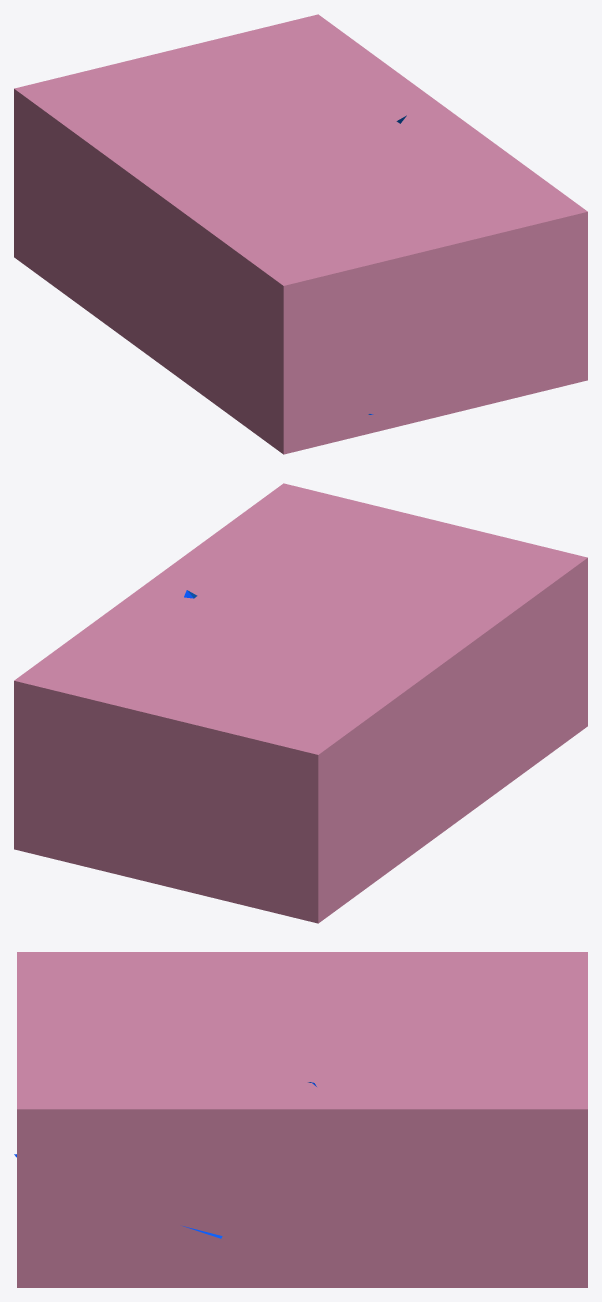
Rendered from tree_oak_dead_a.dae.
3 views of the same model, one above another, from view 1: azimuth 30°, elevation 25°; view 2: azimuth 150°, elevation 25°; view 3: azimuth 270°, elevation 25° (orthographic). The views are drawn at different scales.
Visible parts, largest first — view 1: Untitled; view 2: Untitled; view 3: Untitled.
Boxes of the visible parts, x1,y1,x2,y2 form: Untitled: (14, 14, 587, 454); Untitled: (14, 483, 587, 923); Untitled: (17, 952, 587, 1287).
Bounding box in the file's own units: 8.58 × 13.09 × 4.64.
